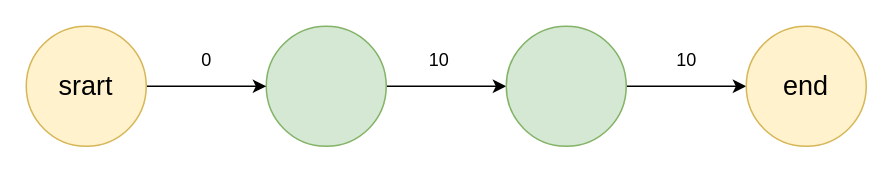
Image size: 893x173. Some labels were removed from this diagram. Here are the shapes that lost their labels. From the top down, the box of each, then its label:
(265, 25, 386, 146): 上數 0~9
(505, 25, 626, 146): 下數 9~0
